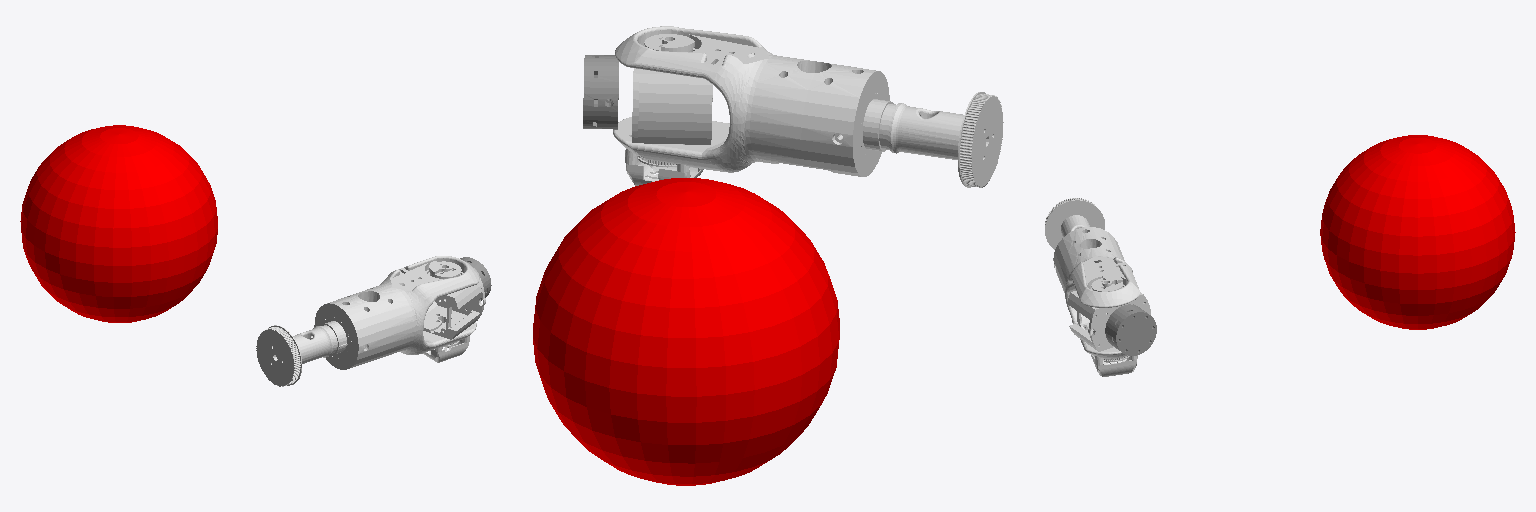
URDF robot description (Assem2):
<?xml version="1.0" encoding="utf-8"?>
<!-- This URDF was automatically created by SolidWorks to URDF Exporter! Originally created by Stephen Brawner (brawner@gmail.com) 
     Commit Version: 1.6.0-4-g7f85cfe  Build Version: 1.6.7995.38578
     For more information, please see http://wiki.ros.org/sw_urdf_exporter -->
<robot
  name="Assem2">
  <link
    name="base_link">
    <inertial>
      <origin
        xyz="-0.0307944187137557 0.000851964900375136 0.0511484888091677"
        rpy="0 0 0" />
      <mass
        value="0.546341052819865" />
      <inertia
        ixx="0.000826457567722999"
        ixy="1.82441589453593E-05"
        ixz="2.52691800515782E-05"
        iyy="0.0014534304369117"
        iyz="-5.25124142456086E-06"
        izz="0.00192500531929827" />
    </inertial>
    <visual>
  <origin xyz="0 0 0" rpy="0 0 0"/>
  <geometry>
    <sphere radius="0.10"/>
  </geometry>
  <material name="red">
    <color rgba="1 0 0 1"/>
  </material>
</visual>
    <collision>
      <origin
        xyz="0 0 0"
        rpy="0 0 0" />
      <geometry>
        <mesh
          filename="package://robot_description/meshes/base_link.STL" />
      </geometry>
    </collision>
  </link>
  <link
    name="Link1">
    <inertial>
      <origin
        xyz="0.000726872295525839 0.0766927096263592 0.00240214328537385"
        rpy="0 0 0" />
      <mass
        value="0.32879411041571" />
      <inertia
        ixx="0.000256039330595977"
        ixy="-2.62671962078177E-06"
        ixz="8.88939270540052E-06"
        iyy="0.000262198403335685"
        iyz="-4.61829713638306E-06"
        izz="0.000175926596607365" />
    </inertial>
    <visual>
      <origin
        xyz="0 0 0"
        rpy="0 0 0" />
      <geometry>
        <mesh
          filename="package://robot_description/meshes/Link1.STL" />
      </geometry>
      <material
        name="">
        <color
          rgba="0.894117647058823 0.894117647058823 0.894117647058823 1" />
      </material>
    </visual>
    <collision>
      <origin
        xyz="0 0 0"
        rpy="0 0 0" />
      <geometry>
        <mesh
          filename="package://robot_description/meshes/Link1.STL" />
      </geometry>
    </collision>
  </link>
  <joint
    name="Joint0"
    type="revolute">
    <origin
      xyz="0 -0.040502 0"
      rpy="0 1.5645 -3.1416" />
    <parent
      link="base_link" />
    <child
      link="Link1" />
    <axis
      xyz="0 1 0" />
    <limit
      lower="-3.1416"
      upper="3.1416"
      effort="100"
      velocity="2" />
  </joint>
  <link
    name="Link2">
    <inertial>
      <origin
        xyz="-0.066208903332668 2.91272370498176E-05 -0.1229272303817"
        rpy="0 0 0" />
      <mass
        value="0.454270430900546" />
      <inertia
        ixx="0.00106644868025039"
        ixy="2.7207251404241E-07"
        ixz="4.32839010002182E-05"
        iyy="0.00106427298430026"
        iyz="-2.94552194054189E-07"
        izz="0.000273417352151915" />
    </inertial>
    <visual>
      <origin
        xyz="0 0 0"
        rpy="0 0 0" />
      <geometry>
        <mesh
          filename="package://robot_description/meshes/Link2.STL" />
      </geometry>
      <material
        name="">
        <color
          rgba="0.894117647058823 0.894117647058823 0.894117647058823 1" />
      </material>
    </visual>
    <collision>
      <origin
        xyz="0 0 0"
        rpy="0 0 0" />
      <geometry>
        <mesh
          filename="package://robot_description/meshes/Link2.STL" />
      </geometry>
    </collision>
  </link>
  <joint
    name="Joint1"
    type="revolute">
    <origin
      xyz="0 0.3045 -0.020836"
      rpy="-1.575 0 0" />
    <parent
      link="Link1" />
    <child
      link="Link2" />
    <axis
      xyz="1 0 0" />
    <limit
      lower="-1.5708"
      upper="1.5708"
      effort="100"
      velocity="2" />
  </joint>
  <link
    name="Link3">
    <inertial>
      <origin
        xyz="0.000928259394698717 -0.00139316445327747 0.0062628763997133"
        rpy="0 0 0" />
      <mass
        value="0.194144858042858" />
      <inertia
        ixx="0.000134935543107147"
        ixy="-2.2893938617981E-07"
        ixz="-7.22655000765051E-07"
        iyy="0.000139451140080624"
        iyz="4.23987201224616E-06"
        izz="0.000189362612170634" />
    </inertial>
    <visual>
      <origin
        xyz="0 0 0"
        rpy="0 0 0" />
      <geometry>
        <mesh
          filename="package://robot_description/meshes/Link3.STL" />
      </geometry>
      <material
        name="">
        <color
          rgba="0.894117647058823 0.894117647058823 0.894117647058823 1" />
      </material>
    </visual>
    <collision>
      <origin
        xyz="0 0 0"
        rpy="0 0 0" />
      <geometry>
        <mesh
          filename="package://robot_description/meshes/Link3.STL" />
      </geometry>
    </collision>
  </link>
  <joint
    name="Joint2"
    type="revolute">
    <origin
      xyz="0 0 0"
      rpy="1.4042 0 0" />
    <parent
      link="Link2" />
    <child
      link="Link3" />
    <axis
      xyz="1 0 0" />
    <limit
      lower="-2.168"
      upper="2.168"
      effort="70"
      velocity="2" />
  </joint>
  <link
    name="Link4">
    <inertial>
      <origin
        xyz="0.0802868622121154 7.27571167890018E-05 0.00156562534608505"
        rpy="0 0 0" />
      <mass
        value="0.364186073795636" />
      <inertia
        ixx="0.000289172103521938"
        ixy="-1.25545704591865E-06"
        ixz="-2.80161146292061E-05"
        iyy="0.000656478573115984"
        iyz="5.86805231563618E-07"
        izz="0.0006173136910163" />
    </inertial>
    <visual>
      <origin
        xyz="0 0 0"
        rpy="0 0 0" />
      <geometry>
        <mesh
          filename="package://robot_description/meshes/Link4.STL" />
      </geometry>
      <material
        name="">
        <color
          rgba="0.894117647058823 0.894117647058823 0.894117647058823 1" />
      </material>
    </visual>
    <collision>
      <origin
        xyz="0 0 0"
        rpy="0 0 0" />
      <geometry>
        <mesh
          filename="package://robot_description/meshes/Link4.STL" />
      </geometry>
    </collision>
  </link>
  <joint
    name="Joint3"
    type="revolute">
    <origin
      xyz="0 0 0"
      rpy="0.081344 1.5708 0" />
    <parent
      link="Link3" />
    <child
      link="Link4" />
    <axis
      xyz="1 0 0" />
    <limit
      lower="-3.1416"
      upper="3.1416"
      effort="50"
      velocity="3" />
  </joint>
  <link
    name="Link5">
    <inertial>
      <origin
        xyz="0.00111833767350664 0.00428268847861785 0.00516997914957242"
        rpy="0 0 0" />
      <mass
        value="0.0756369567297843" />
      <inertia
        ixx="4.67238607690782E-05"
        ixy="1.4425254420724E-07"
        ixz="6.38267522600643E-08"
        iyy="2.75860661404799E-05"
        iyz="-1.43845908131712E-07"
        izz="4.04690758309284E-05" />
    </inertial>
    <visual>
      <origin
        xyz="0 0 0"
        rpy="0 0 0" />
      <geometry>
        <mesh
          filename="package://robot_description/meshes/Link5.STL" />
      </geometry>
      <material
        name="">
        <color
          rgba="0.894117647058823 0.894117647058823 0.894117647058823 1" />
      </material>
    </visual>
    <collision>
      <origin
        xyz="0 0 0"
        rpy="0 0 0" />
      <geometry>
        <mesh
          filename="package://robot_description/meshes/Link5.STL" />
      </geometry>
    </collision>
  </link>
  <joint
    name="Joint4"
    type="revolute">
    <origin
      xyz="0.177 0.00011 0"
      rpy="0 0 2.7987" />
    <parent
      link="Link4" />
    <child
      link="Link5" />
    <axis
      xyz="0 0 1" />
    <limit
      lower="-2.0944"
      upper="2.0944"
      effort="30"
      velocity="3.5" />
  </joint>
  <link
    name="Link6">
    <inertial>
      <origin
        xyz="1.45509767429663E-09 0.00598143904391943 -0.000173910195417182"
        rpy="0 0 0" />
      <mass
        value="0.0389442702660891" />
      <inertia
        ixx="7.21228823682373E-06"
        ixy="2.17125447266627E-13"
        ixz="-1.11016246256352E-12"
        iyy="1.11525127397258E-05"
        iyz="-3.77075922954066E-08"
        izz="7.32375634882099E-06" />
    </inertial>
    <visual>
      <origin
        xyz="0 0 0"
        rpy="0 0 0" />
      <geometry>
        <mesh
          filename="package://robot_description/meshes/Link6.STL" />
      </geometry>
      <material
        name="">
        <color
          rgba="0.627450980392157 0.627450980392157 0.627450980392157 1" />
      </material>
    </visual>
    <collision>
      <origin
        xyz="0 0 0"
        rpy="0 0 0" />
      <geometry>
        <mesh
          filename="package://robot_description/meshes/Link6.STL" />
      </geometry>
    </collision>
  </link>
  <joint
    name="Joint5"
    type="revolute">
    <origin
      xyz="-0.037627 0 0.0013491"
      rpy="-3.1416 1.5084 -1.5708" />
    <parent
      link="Link5" />
    <child
      link="Link6" />
    <axis
      xyz="0 1 0" />
    <limit
      lower="-6.2832"
      upper="6.2832"
      effort="20"
      velocity="4" />
  </joint>
</robot>

--- Facts derived from the render (not from the file) ---
The picture shows the robot from 3 angles, left to right: view 1: azimuth 30°, elevation 25°; view 2: azimuth 150°, elevation 25°; view 3: azimuth 270°, elevation 25°; orthographic projection.
Robot: Assem2 — 7 links, 6 joints (6 revolute); root link base_link; default pose: every joint at zero.
Visible links, largest first — view 1: base_link, Link4, Link5; view 2: base_link, Link4, Link5, Link6; view 3: base_link, Link4, Link5, Link6.
Boxes of the visible links, x1,y1,x2,y2 form: base_link: [20, 125, 217, 322]; Link4: [256, 256, 479, 386]; Link5: [423, 261, 485, 346]; base_link: [533, 178, 839, 485]; Link4: [613, 26, 1003, 187]; Link5: [632, 34, 712, 167]; Link6: [583, 55, 618, 129]; base_link: [1320, 135, 1515, 329]; Link4: [1045, 198, 1139, 376]; Link5: [1067, 275, 1150, 361]; Link6: [1105, 304, 1156, 355].
Size in the robot's own frame: 0.3549 by 0.4822 by 0.2 metres.
3 mesh visuals loaded from 6 distinct referenced files (3 binary STL); not drawn: 3 (reference not matched to a file when rendering).
